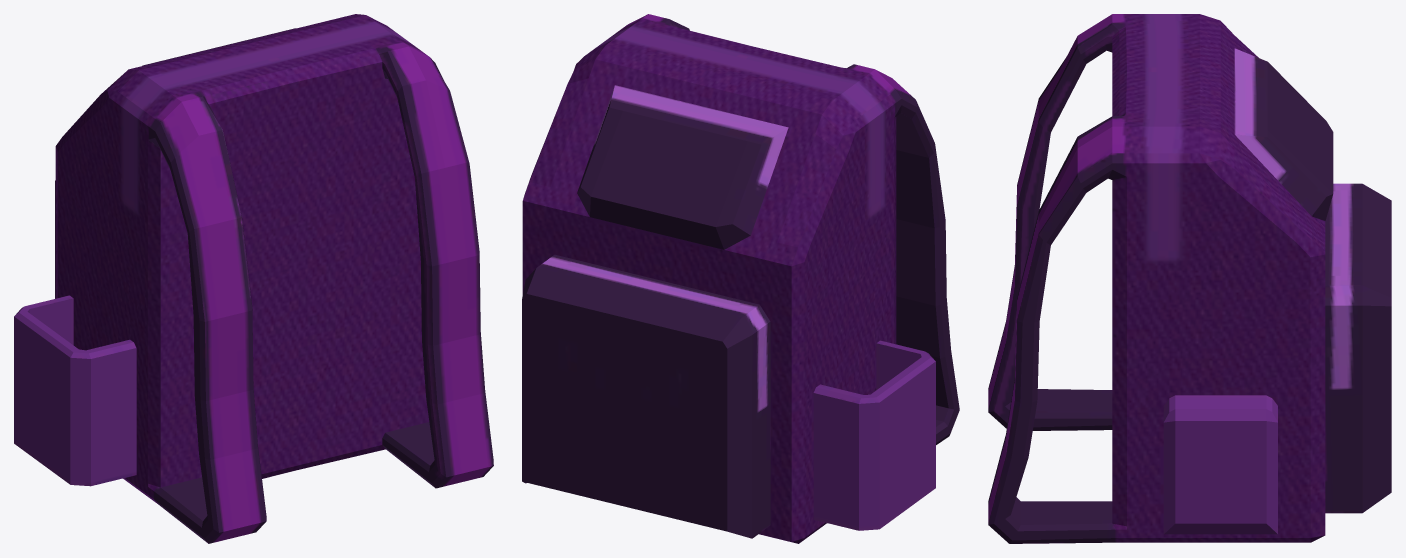
The model's file is BagClosedPurple.fbx.
3 renders of one model, left to right at view 1: azimuth 30°, elevation 25°; view 2: azimuth 150°, elevation 25°; view 3: azimuth 270°, elevation 25°, orthographic.
Visible parts, largest first — view 1: backpack shield; view 2: backpack shield; view 3: backpack shield.
Part boxes in pixels (bbox=[...]): backpack shield: bbox=[14, 14, 493, 543]; backpack shield: bbox=[522, 14, 959, 543]; backpack shield: bbox=[988, 14, 1391, 543].
Size of the model in its own units: 915 by 962 by 867.
